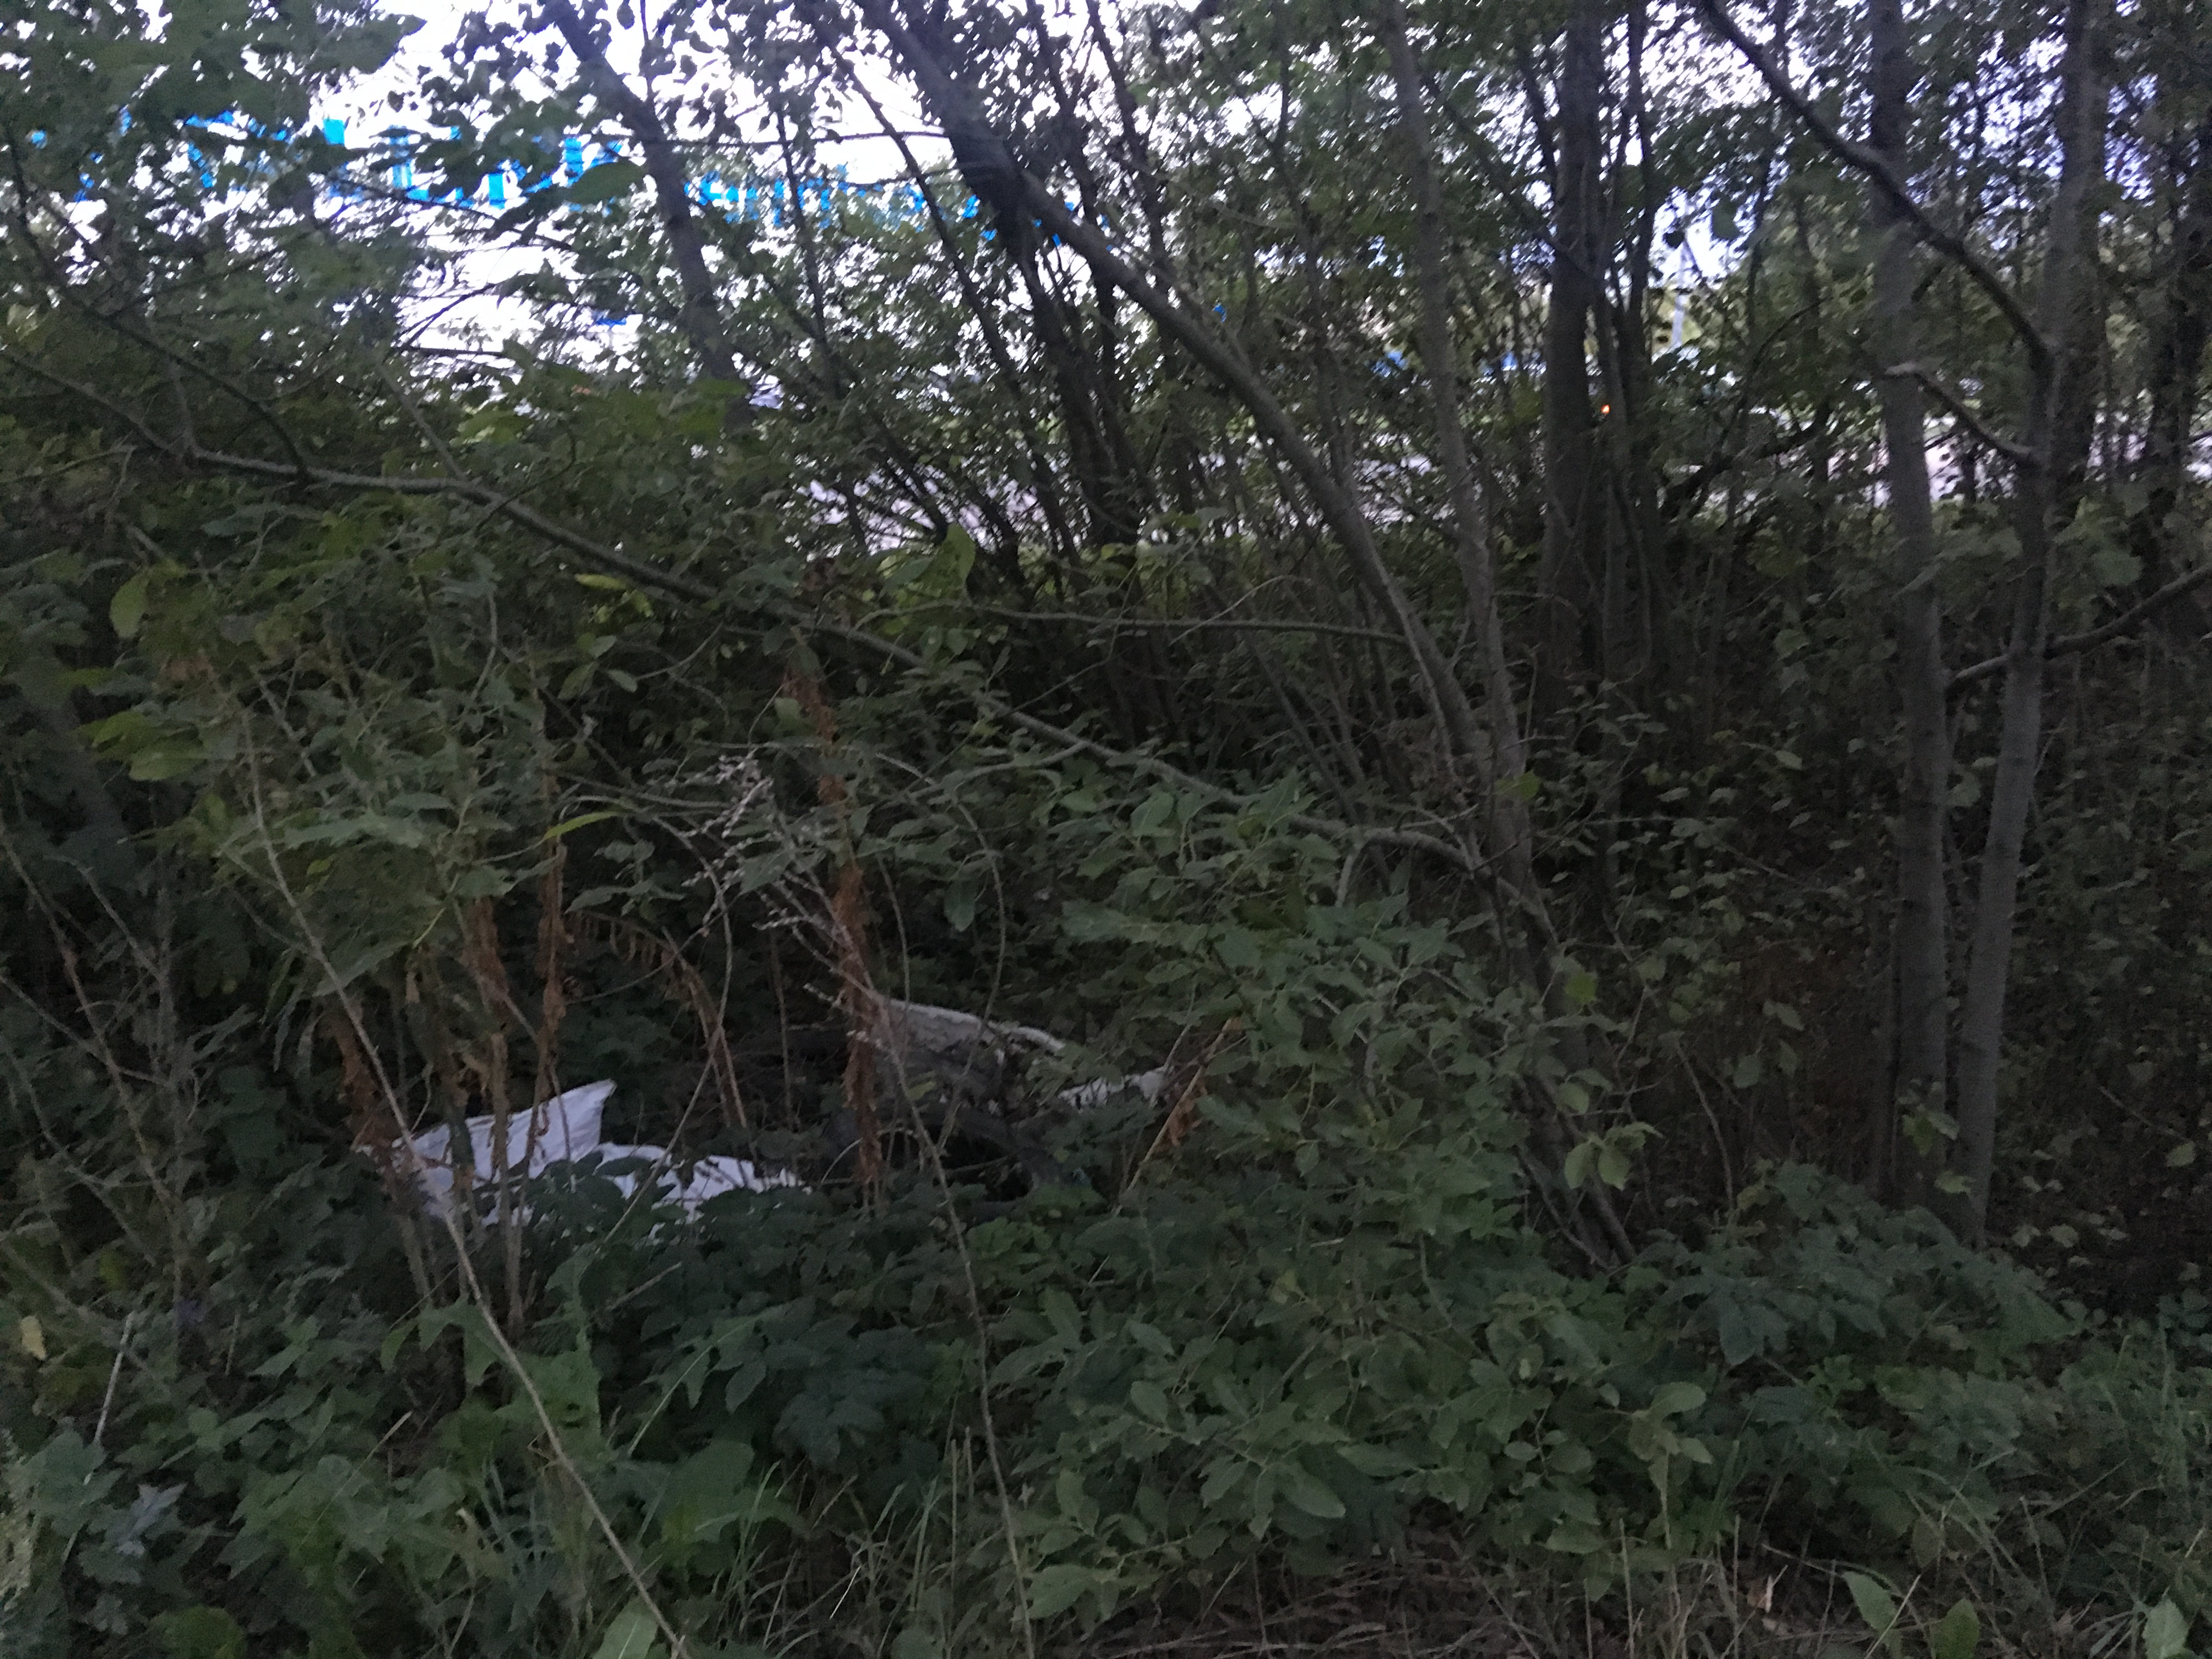trash: (380, 986, 1261, 1230)
